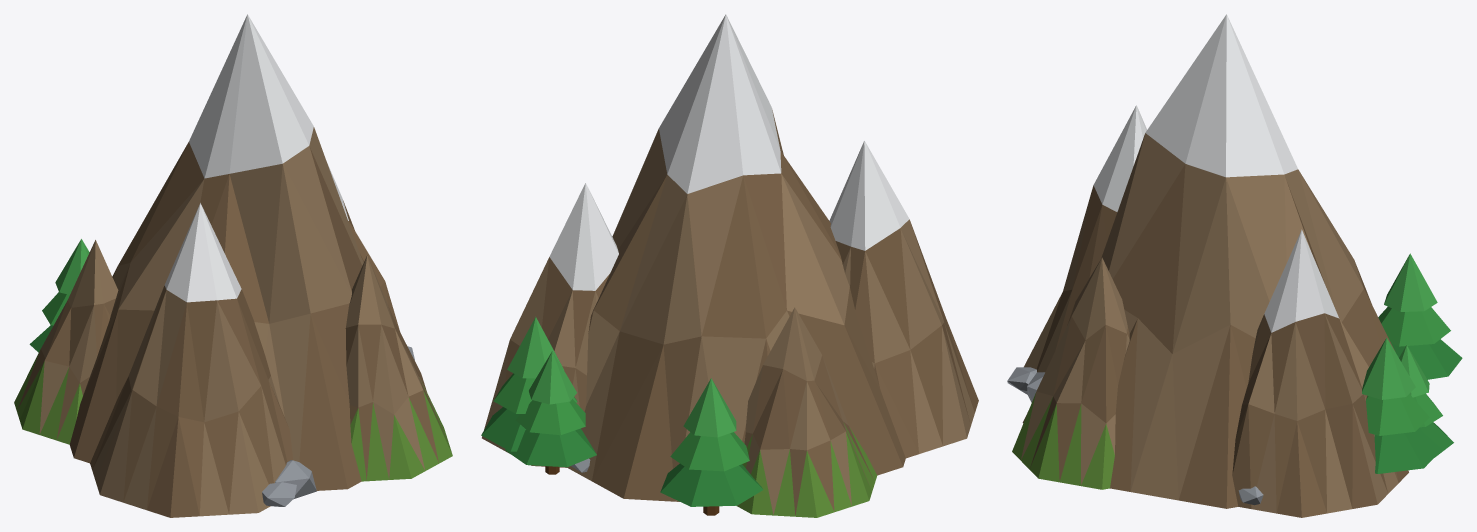
The model's file is fe-mountain-DrKrgYhc.glb.
3 renders of one model, left to right at view 1: azimuth 30°, elevation 25°; view 2: azimuth 150°, elevation 25°; view 3: azimuth 270°, elevation 25°, orthographic. The views are drawn at different scales.
Visible parts, largest first — view 1: Cone; view 2: Cone; view 3: Cone.
Part boxes in pixels (x1=…): Cone: x1=14, y1=14, x2=452, y2=517; Cone: x1=481, y1=14, x2=978, y2=517; Cone: x1=1007, y1=14, x2=1462, y2=517.
Bounding box in the file's own units: 2.1 × 2.14 × 2.12.
